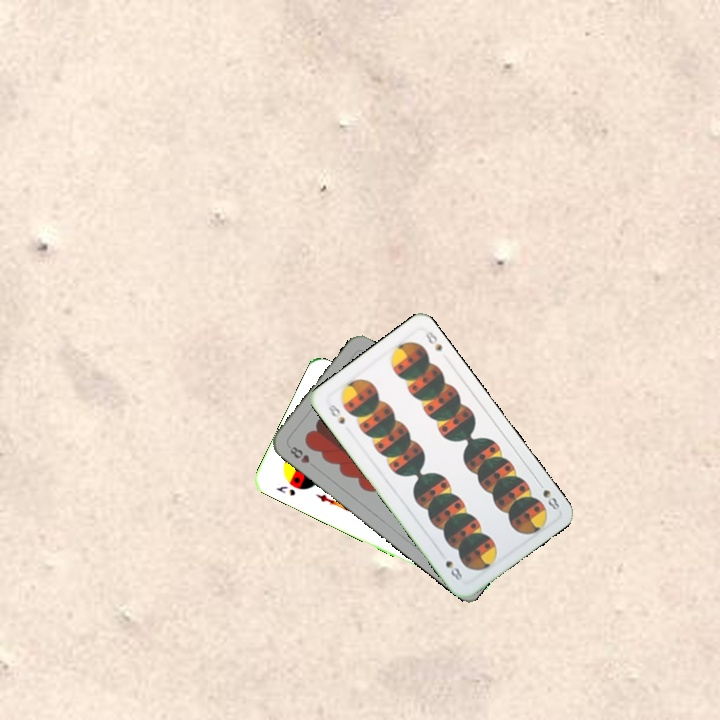H8: (286, 442, 318, 471)
S8: (533, 477, 562, 513), (323, 400, 348, 427)
SK: (272, 482, 298, 499)
